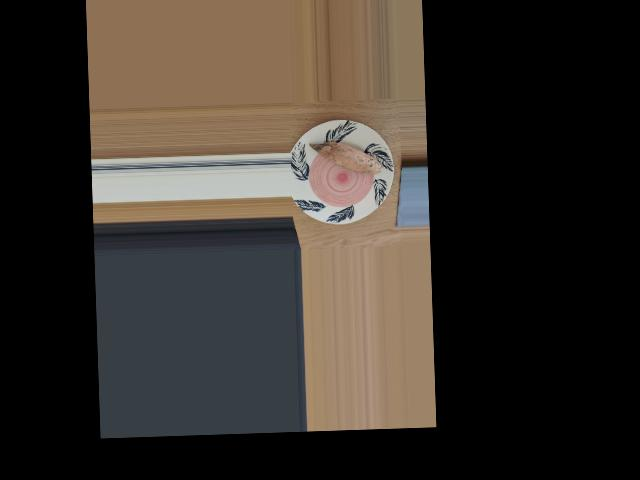sweet_potato: (316, 140, 377, 178)
